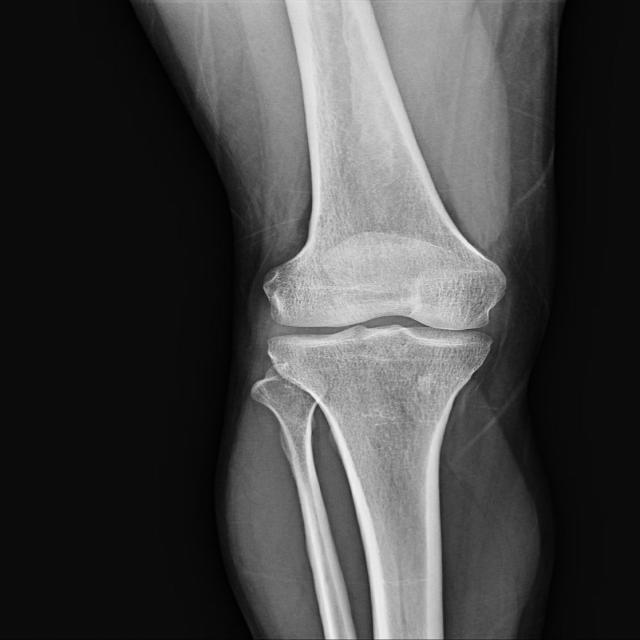normal: (256, 259, 498, 366)
